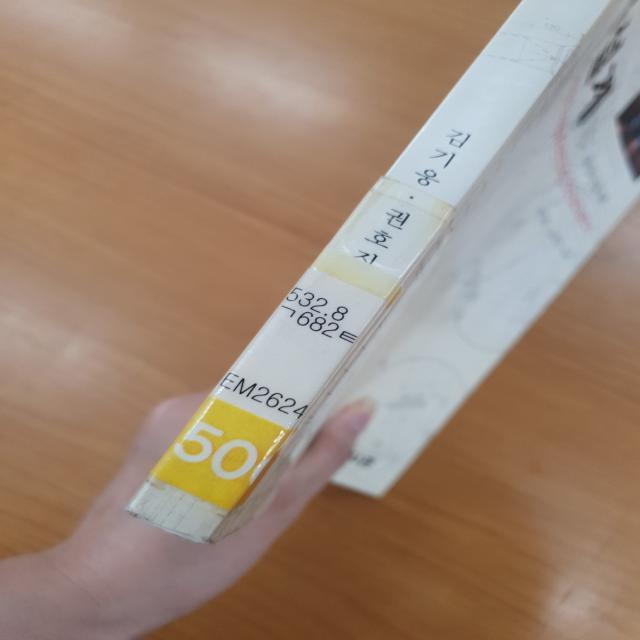Wornout: (153, 522, 221, 548), (118, 498, 154, 525)
